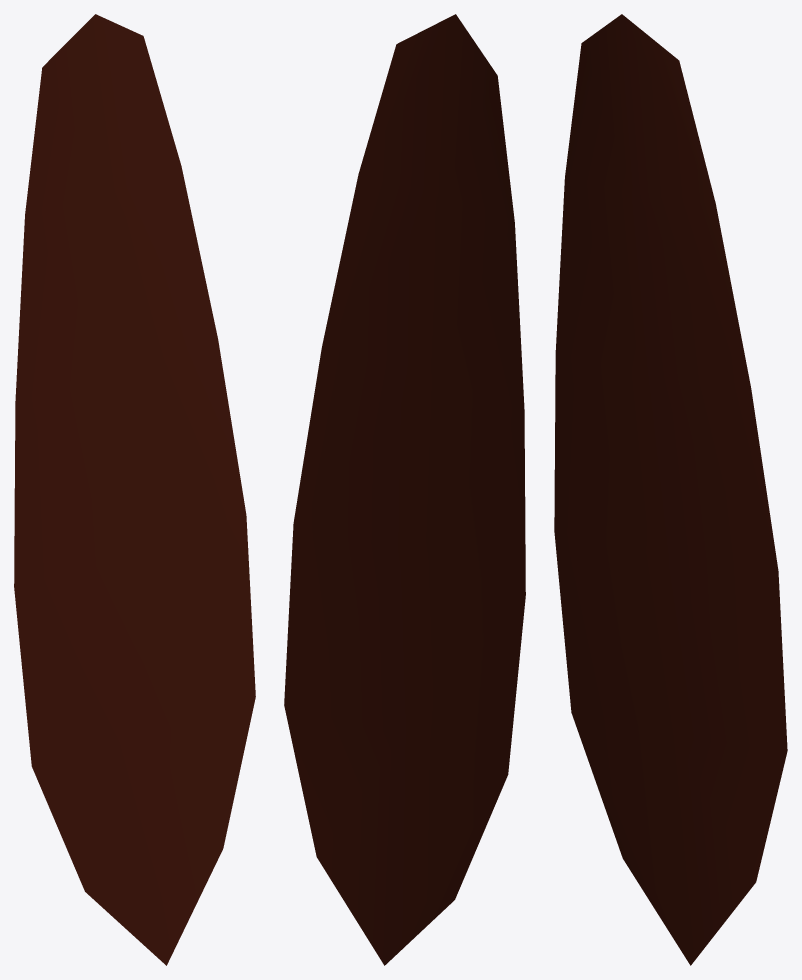
The model's file is pheasant_feather_flight_secondary_011.obj.
The picture shows the model from 3 angles, left to right: view 1: azimuth 30°, elevation 25°; view 2: azimuth 150°, elevation 25°; view 3: azimuth 330°, elevation 25°; orthographic projection. The views are drawn at different scales.
Visible parts, largest first — view 1: feather_flight_secondary_011; view 2: feather_flight_secondary_011; view 3: feather_flight_secondary_011.
Boxes of the visible parts, x1=… form: feather_flight_secondary_011: x1=14, y1=14, x2=255, y2=965; feather_flight_secondary_011: x1=284, y1=14, x2=525, y2=965; feather_flight_secondary_011: x1=554, y1=14, x2=787, y2=965.
Size of the model in its own units: 0.0157 by 0.0602 by 0.000634.
